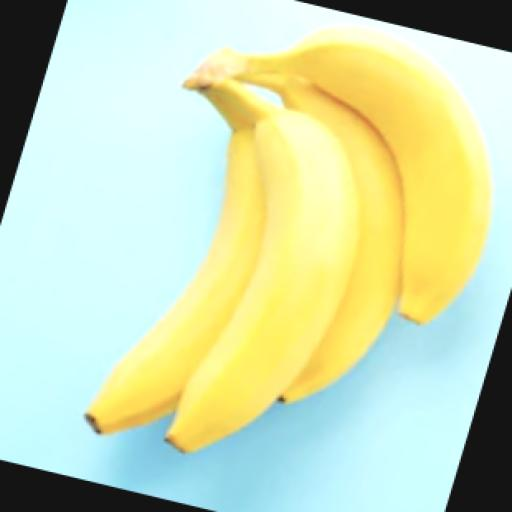banana-ripe: (0, 20, 512, 490)
